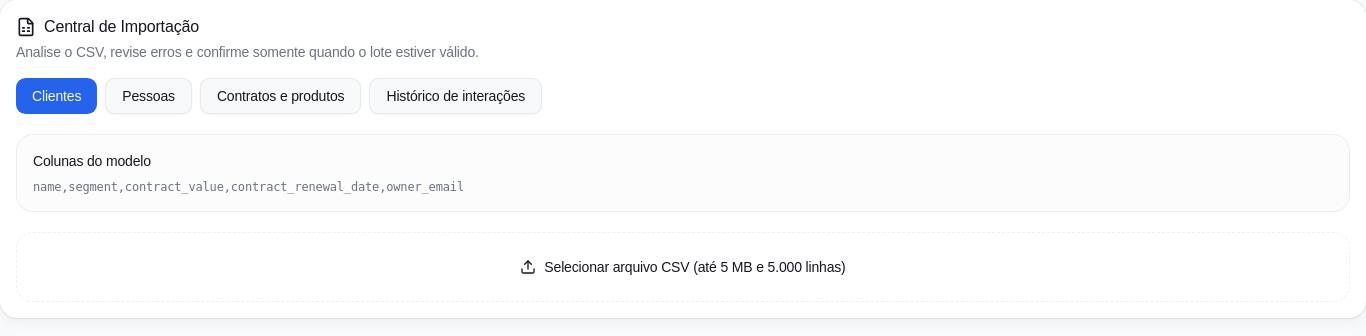
Test: StructuredImportSettings › mostra o modelo da modalidade selecionada
This screenshot has width=1366, height=336.
Expected: the text "name,segment,contract_value,contract_renewal_date,owner_email" is shown, [33, 180, 464, 194]
Click the button "Pessoas".
click(149, 96)  # box [105, 78, 192, 114]
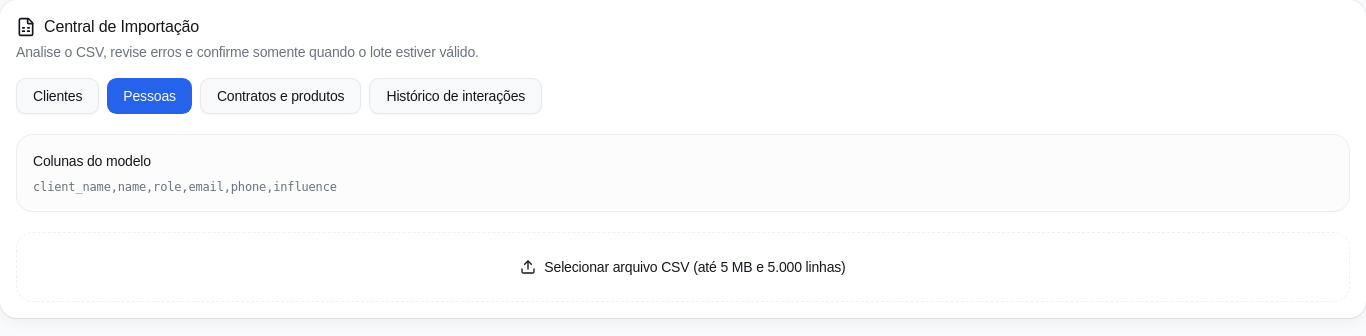
Result: the text "client_name,name,role,email,phone,influence" is shown at [33, 180, 337, 194]
